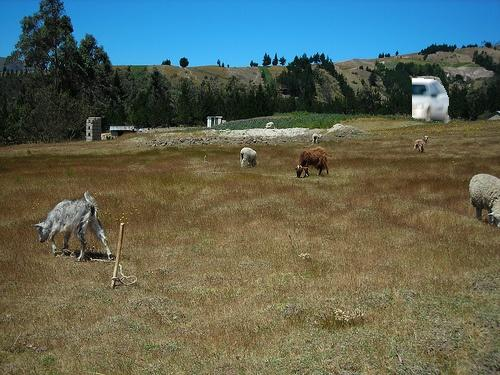tampered: (413, 79, 449, 123)
